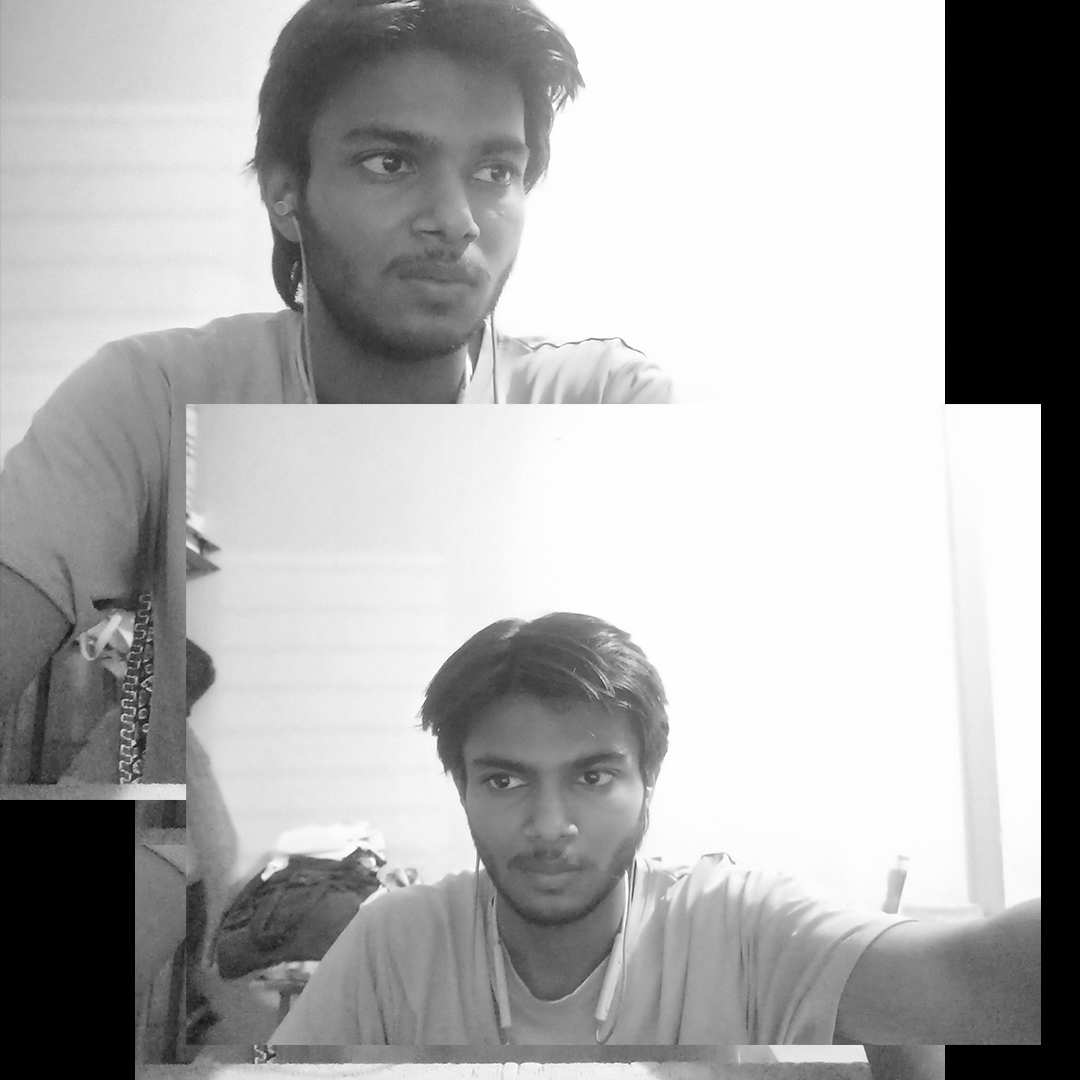Focused: (161, 13, 723, 445), (325, 533, 781, 1010)
